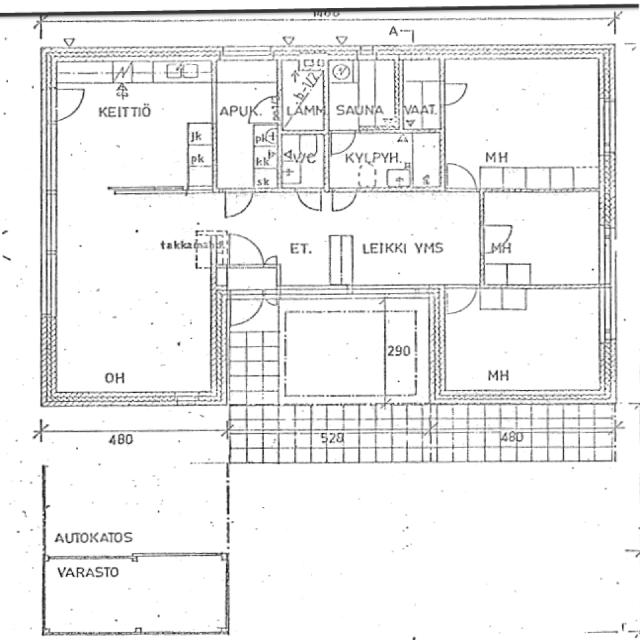door: (226, 289, 265, 330), (226, 230, 266, 269), (51, 87, 86, 122), (443, 284, 478, 317), (480, 221, 515, 254), (444, 160, 478, 193), (222, 188, 253, 220), (440, 80, 470, 108), (328, 129, 357, 157), (294, 186, 323, 213), (249, 95, 279, 121), (330, 188, 358, 214)
window: (595, 95, 620, 159), (37, 255, 59, 322), (594, 286, 618, 346), (594, 223, 617, 284), (171, 390, 204, 406)
zone: (442, 59, 604, 189), (55, 70, 215, 191), (438, 287, 606, 398), (340, 196, 483, 287), (481, 192, 605, 288), (280, 309, 386, 402), (50, 309, 156, 398), (214, 58, 280, 192), (43, 465, 131, 558), (324, 131, 438, 192), (326, 56, 402, 132), (145, 316, 215, 398), (383, 295, 430, 402), (280, 59, 324, 131), (279, 132, 327, 192), (400, 64, 442, 132), (411, 134, 443, 191)
